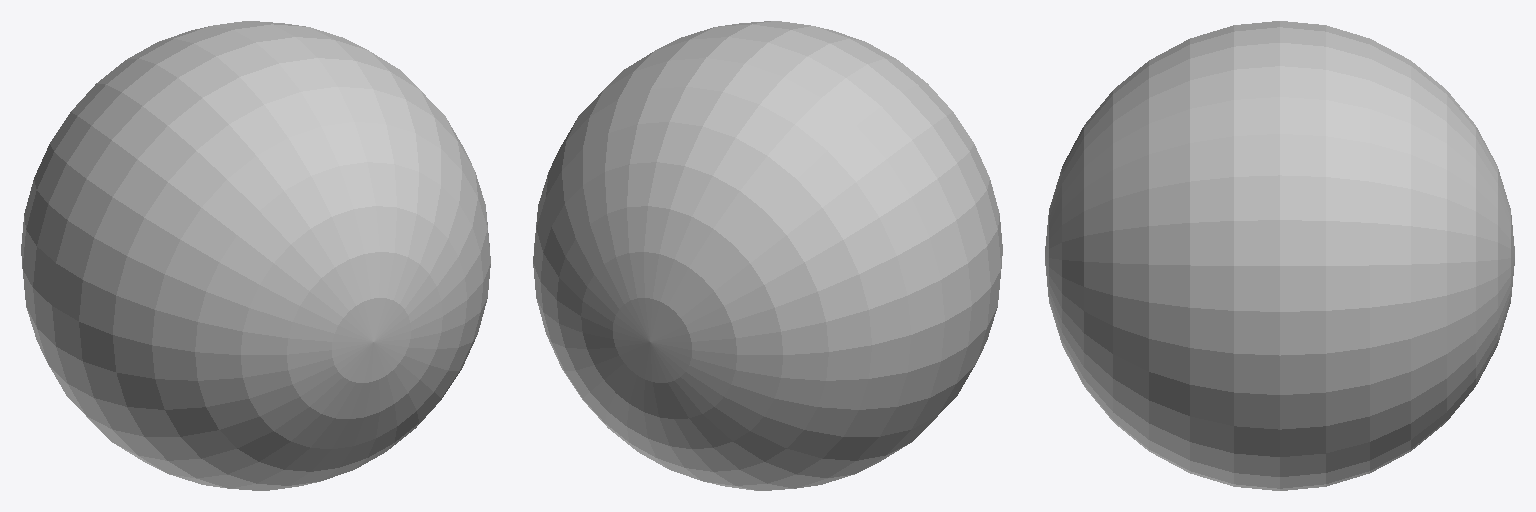
File: hamster ball.obj
The picture shows the model from 3 angles: view 1: azimuth 30°, elevation 25°; view 2: azimuth 150°, elevation 25°; view 3: azimuth 270°, elevation 25°; orthographic projection.
Parts seen in each view (by area): view 1: Sphere.001; view 2: Sphere.001; view 3: Sphere.001.
Part boxes in pixels (left/top/right/bottom): Sphere.001: left=21, top=21, right=490, bottom=490; Sphere.001: left=533, top=21, right=1002, bottom=490; Sphere.001: left=1045, top=21, right=1514, bottom=490.
Size of the model in its own units: 2 by 2 by 2.